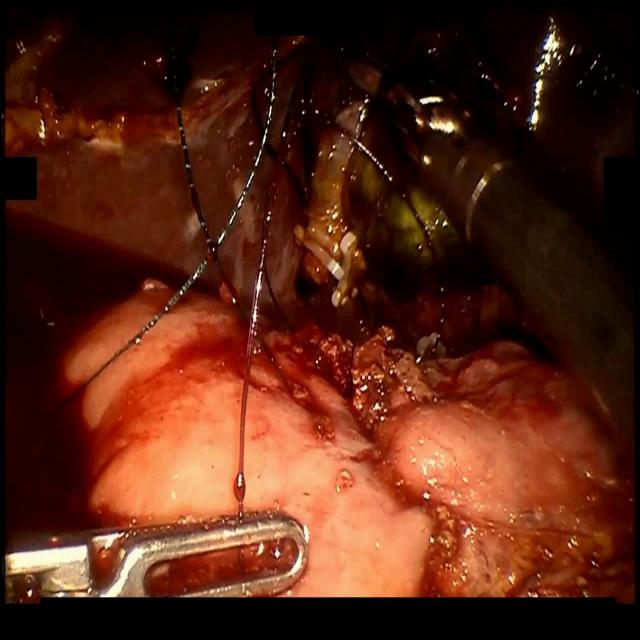surgical-area: (2, 0, 638, 599)
surgical-tool: (330, 20, 640, 475), (4, 506, 308, 602)
